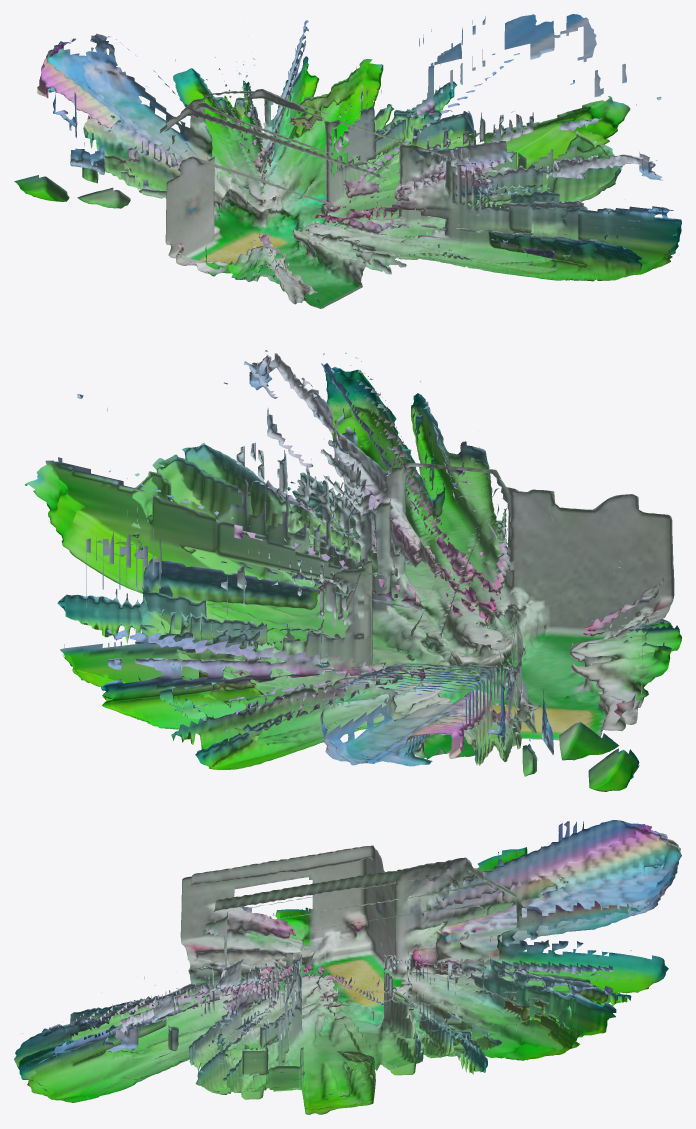
File: frutiger-rainbow-cafe-1-1_collider.glb
3 renders of one model, top to bottom at view 1: azimuth 30°, elevation 25°; view 2: azimuth 150°, elevation 25°; view 3: azimuth 270°, elevation 25°, orthographic. The views are drawn at different scales.
Parts seen in each view (by area): view 1: world; view 2: world; view 3: world.
Part boxes in pixels (x1,y1,x2,y2): world: (14, 14, 681, 308); world: (25, 350, 681, 791); world: (14, 820, 681, 1114).
Size of the model in its own units: 19.78 by 5.94 by 20.34.
